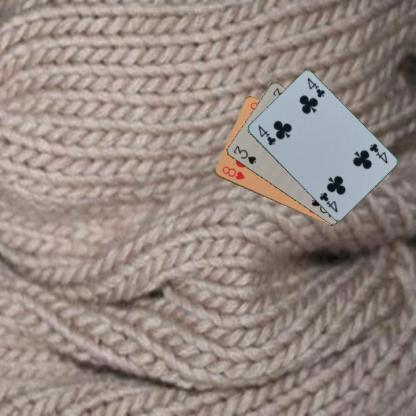3s: (230, 143, 257, 165)
4c: (366, 140, 389, 166), (255, 122, 277, 147)
8h: (220, 164, 246, 182)
